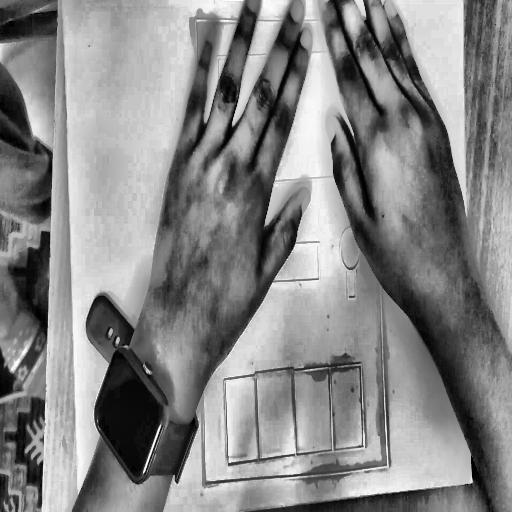bottom_right: (469, 473, 478, 488)
door: (192, 8, 396, 494)
